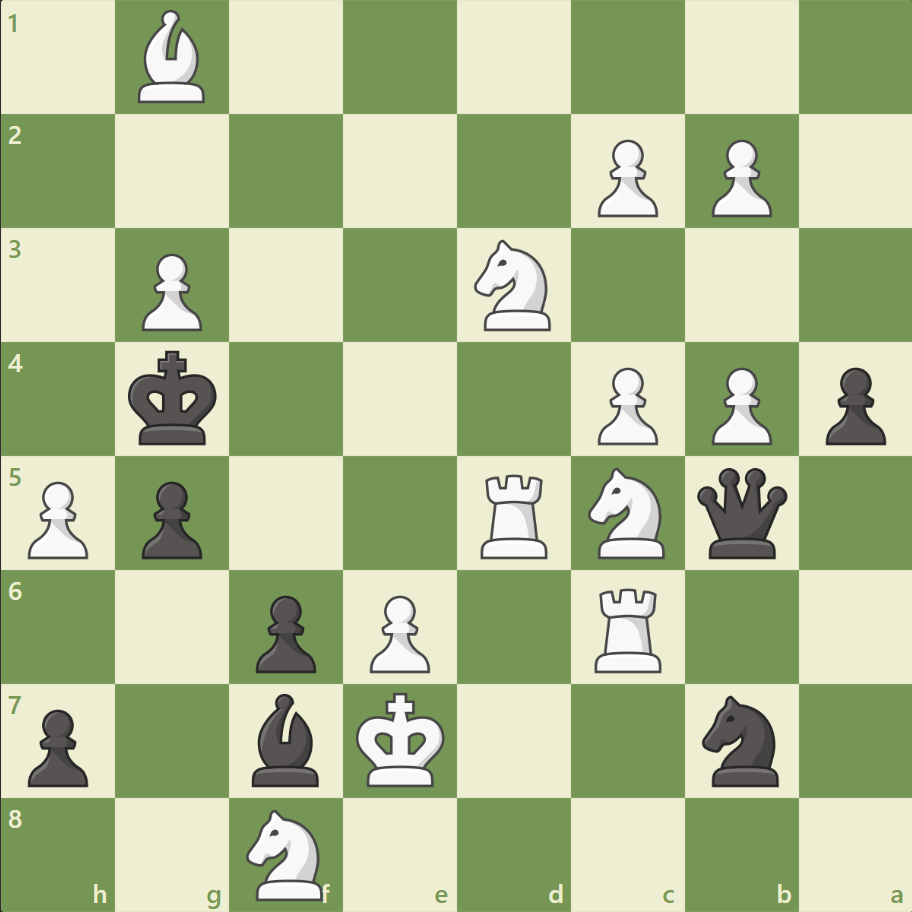B: (131, 6, 215, 109)
K: (351, 685, 451, 793)
N: (579, 461, 676, 564), (465, 234, 562, 337), (238, 802, 335, 904)
P: (20, 473, 95, 564), (701, 359, 776, 450), (133, 246, 208, 337), (701, 132, 776, 223), (361, 586, 435, 677), (588, 359, 662, 450), (588, 132, 662, 223)
R: (587, 579, 670, 676), (473, 466, 556, 563)
b: (244, 687, 328, 790)
k: (124, 344, 224, 452)
n: (692, 688, 789, 791)
p: (20, 700, 95, 791), (247, 586, 322, 677), (133, 473, 208, 564), (815, 359, 889, 450)
q: (691, 463, 790, 562)
